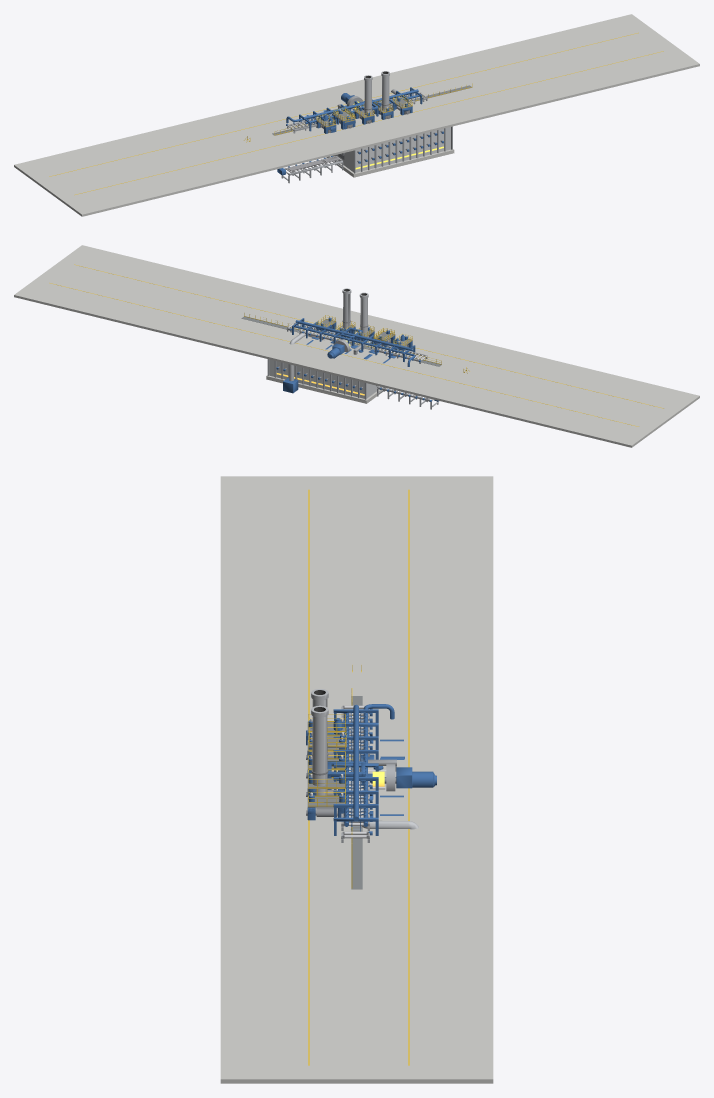
Rendered from rolling.glb.
3 views of the same model, one above another, from view 1: azimuth 30°, elevation 25°; view 2: azimuth 150°, elevation 25°; view 3: azimuth 270°, elevation 25° (orthographic). The views are drawn at different scales.
Parts seen in each view (by area): view 1: Floor_Slab, R1_Reheating_Furnace, R4_Finishing_Mill, R5_Runout_Table_Cooling, R3_Roughing_Mill, Roller_Tables, Operator_Walkways; view 2: Floor_Slab, R1_Reheating_Furnace, R5_Runout_Table_Cooling, R4_Finishing_Mill, Roller_Tables, Operator_Walkways, R6_Coiler, R3_Roughing_Mill; view 3: Floor_Slab, R5_Runout_Table_Cooling, R4_Finishing_Mill, R1_Reheating_Furnace, R6_Coiler, Roller_Tables, Operator_Walkways.
Boxes of the visible parts, x1,y1,x2,y2 form: Floor_Slab: (14,14,699,216); R1_Reheating_Furnace: (277,71,454,183); R4_Finishing_Mill: (306,95,412,133); R5_Runout_Table_Cooling: (286,87,422,131); R3_Roughing_Mill: (323,106,404,132); Roller_Tables: (286,92,427,133); Operator_Walkways: (244,83,472,142); Floor_Slab: (14,245,699,447); R1_Reheating_Furnace: (266,288,438,409); R5_Runout_Table_Cooling: (292,318,415,366); R4_Finishing_Mill: (306,315,412,363); Roller_Tables: (287,323,427,363); Operator_Walkways: (241,313,469,373); R6_Coiler: (327,338,374,358); R3_Roughing_Mill: (332,327,404,359); Floor_Slab: (220,476,493,1083); R5_Runout_Table_Cooling: (333,704,394,835); R4_Finishing_Mill: (306,714,403,820); R1_Reheating_Furnace: (311,689,418,829); R6_Coiler: (349,754,436,791); Roller_Tables: (341,705,372,842); Operator_Walkways: (351,665,362,889).
Size of the model in its own units: 991529 by 137040 by 189428.
